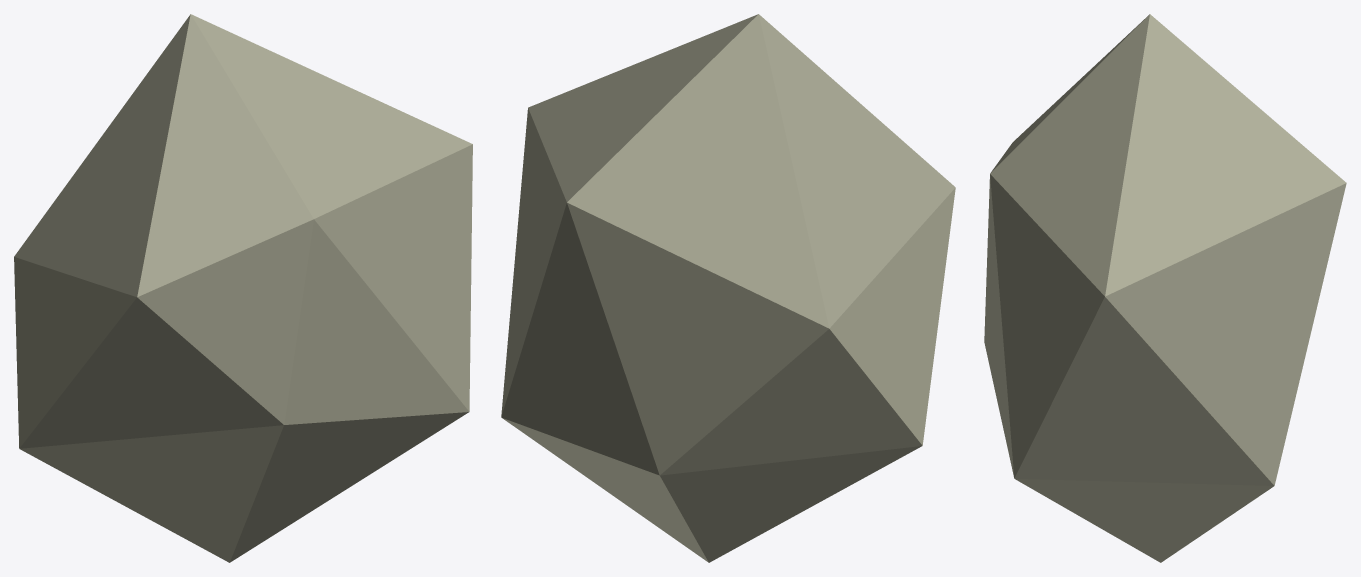
Rendered from asteroid_5.glb.
The picture shows the model from 3 angles, left to right: view 1: azimuth 30°, elevation 25°; view 2: azimuth 150°, elevation 25°; view 3: azimuth 270°, elevation 25°; orthographic projection. The views are drawn at different scales.
Visible parts, largest first — view 1: Asteroid_5; view 2: Asteroid_5; view 3: Asteroid_5.
Boxes of the visible parts, x1,y1,x2,y2 form: Asteroid_5: (14,14,472,562); Asteroid_5: (501,14,955,562); Asteroid_5: (984,14,1346,562).
Size of the model in its own units: 0.7592 by 0.9578 by 0.5952.
